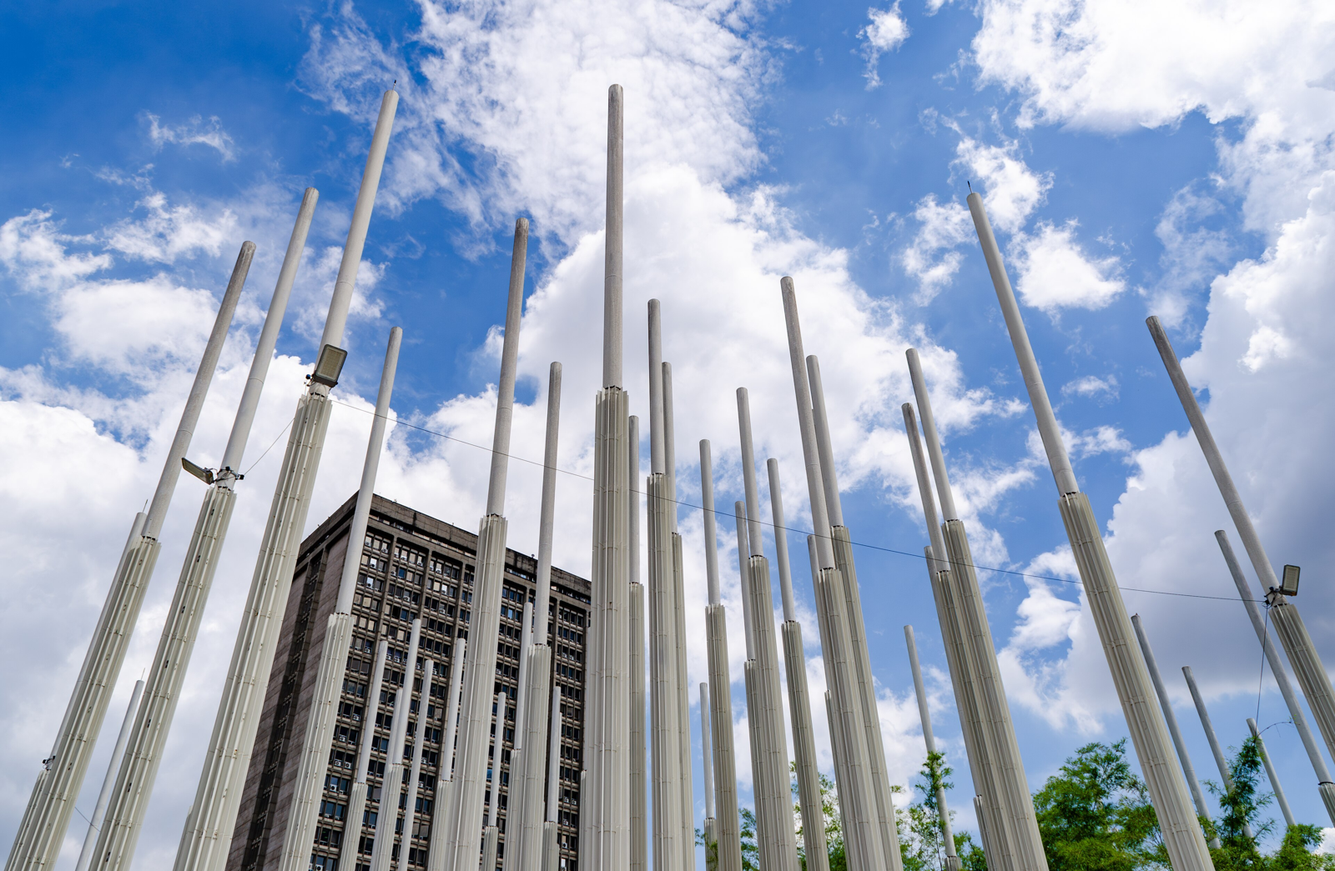fachada: (229, 440, 642, 871)
poste: (44, 65, 601, 871), (953, 179, 1224, 871), (1122, 308, 1335, 871), (768, 269, 914, 871), (594, 81, 659, 869)
